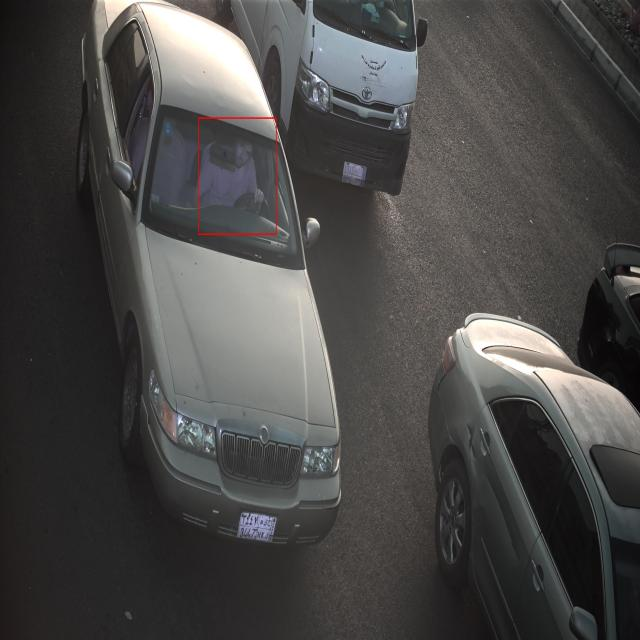windshield: (139, 94, 306, 265)
